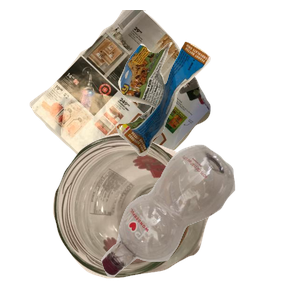glass: (50, 131, 252, 300)
paper: (27, 10, 230, 190)
plastic: (99, 142, 300, 300)
trash: (114, 39, 300, 188)
